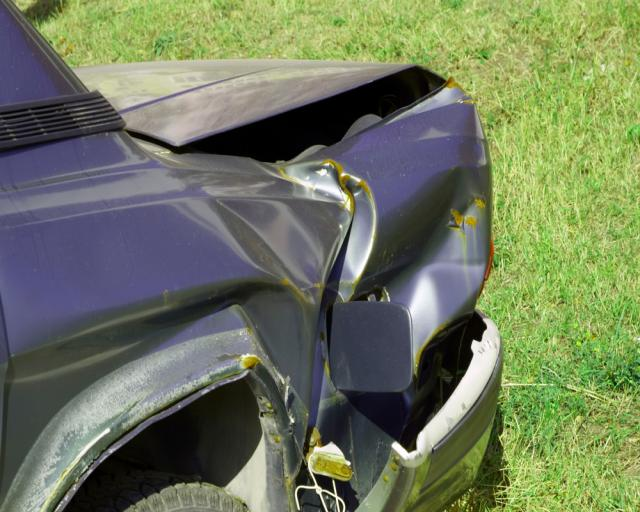dent: (214, 161, 491, 437)
